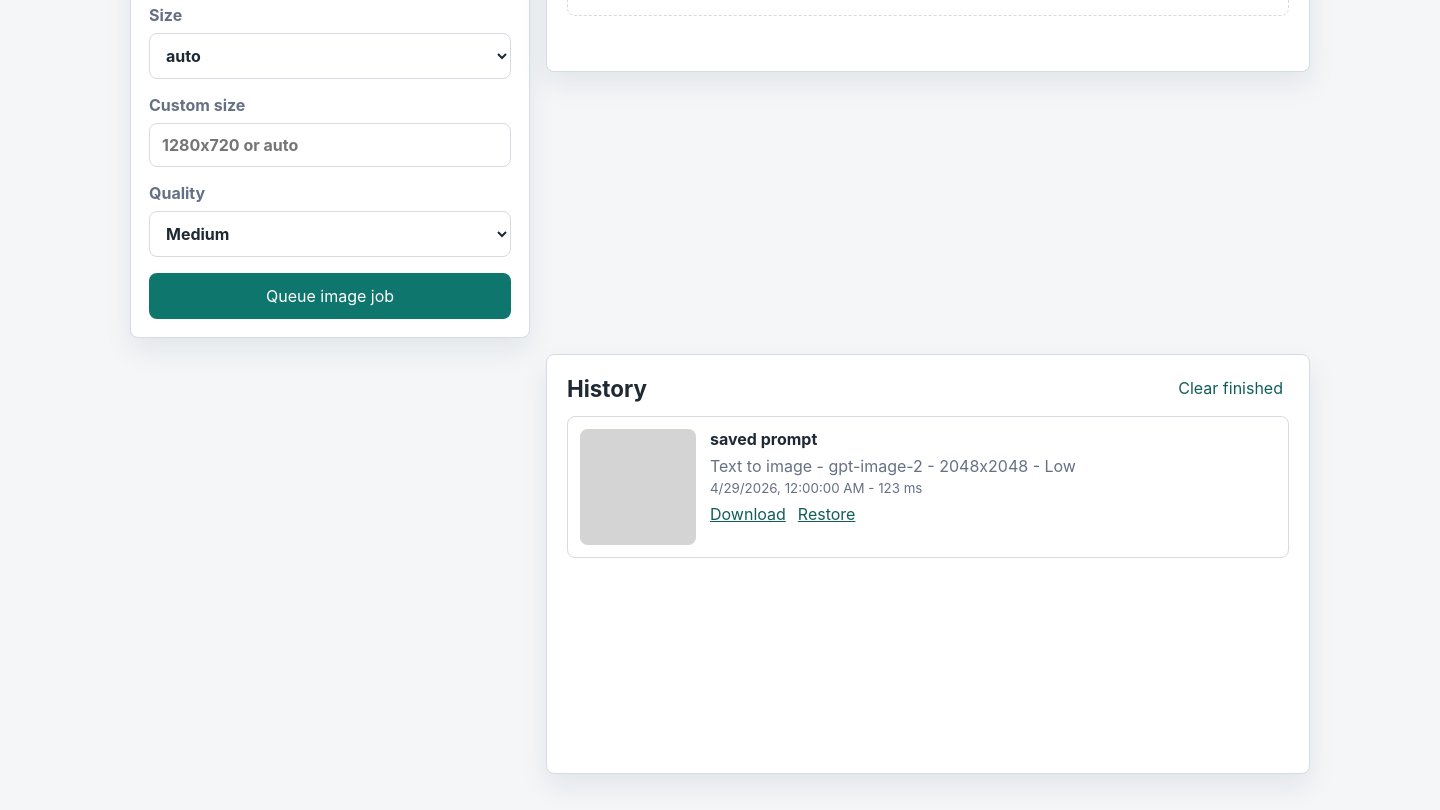
App › renders history and restores a previous generation
This screenshot has width=1440, height=810.
(page scrolled)
Expected: the heading "saved prompt" is shown, x1=710 y1=429 x2=817 y2=449
Click the button "Restore".
click(827, 514)  # box x1=798 y1=504 x2=855 y2=524
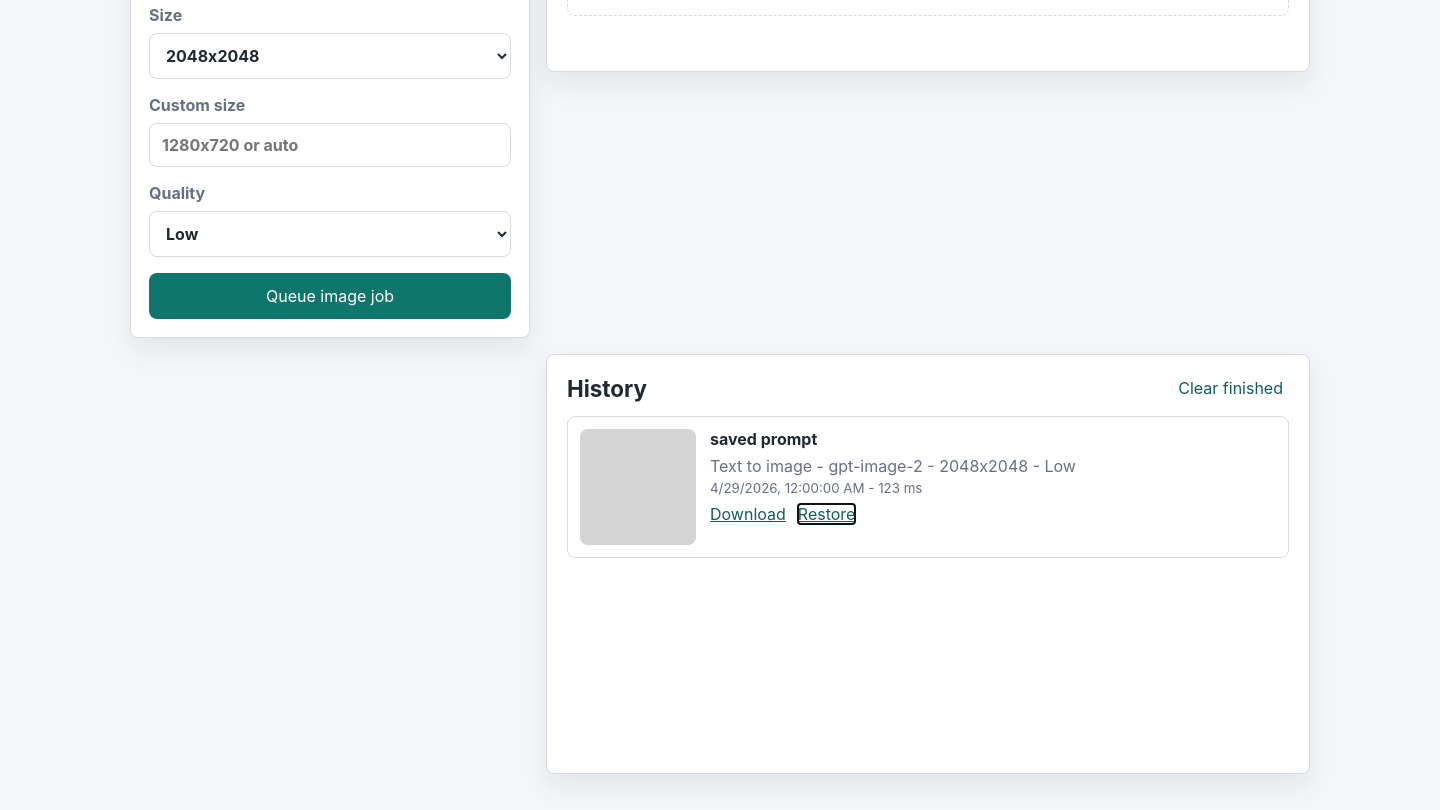
Now the dropdown labelled "Size" shows "2048x2048", box x1=149 y1=33 x2=511 y2=79
Now the dropdown labelled "Quality" shows "Low", box x1=149 y1=211 x2=511 y2=257
